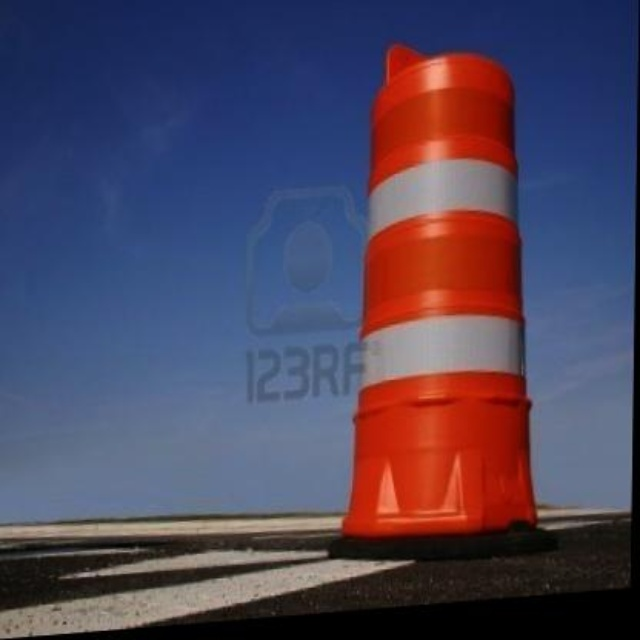obstacle: (352, 33, 557, 559)
